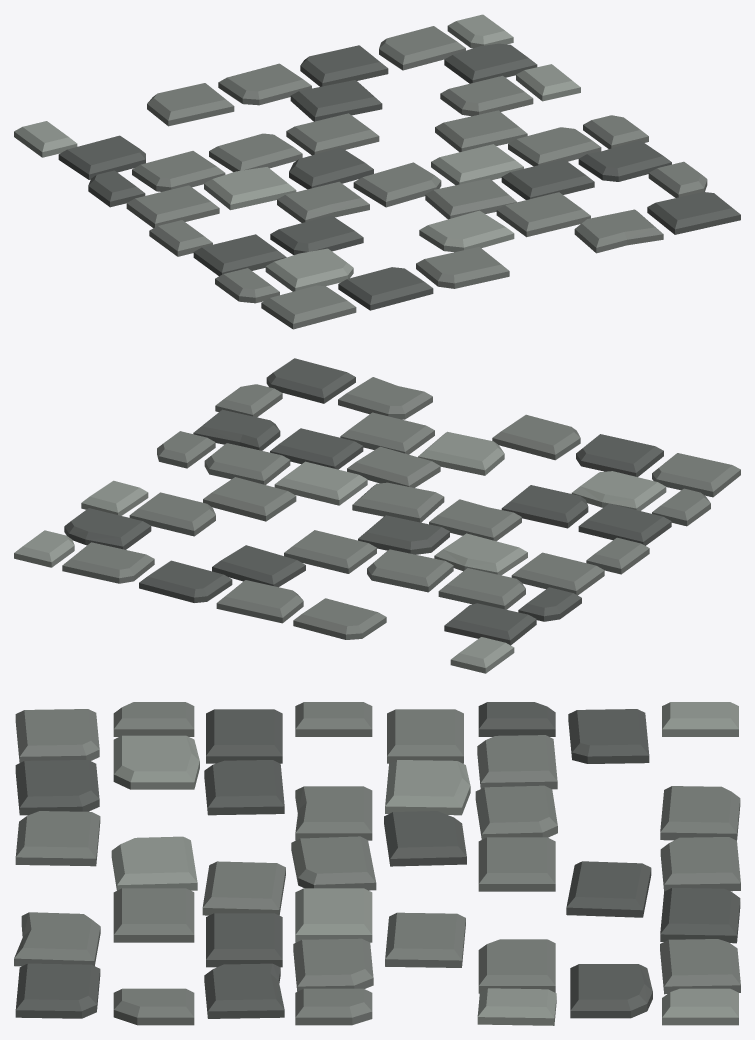
File: SM_Env_Path_Cobble_02.gltf
The picture shows the model from 3 angles, top to bottom: view 1: azimuth 30°, elevation 25°; view 2: azimuth 150°, elevation 25°; view 3: azimuth 270°, elevation 25°; orthographic projection. The views are drawn at different scales.
Parts seen in each view (by area): view 1: SM_Env_Path_Cobble_02; view 2: SM_Env_Path_Cobble_02; view 3: SM_Env_Path_Cobble_02.
Part boxes in pixels (x1,y1,x2,y2): SM_Env_Path_Cobble_02: (14,14,740,329); SM_Env_Path_Cobble_02: (14,358,740,673); SM_Env_Path_Cobble_02: (14,702,740,1025).
Bounding box in the file's own units: 3.01 × 0.0678 × 2.96.
1 material, 1 textured.
